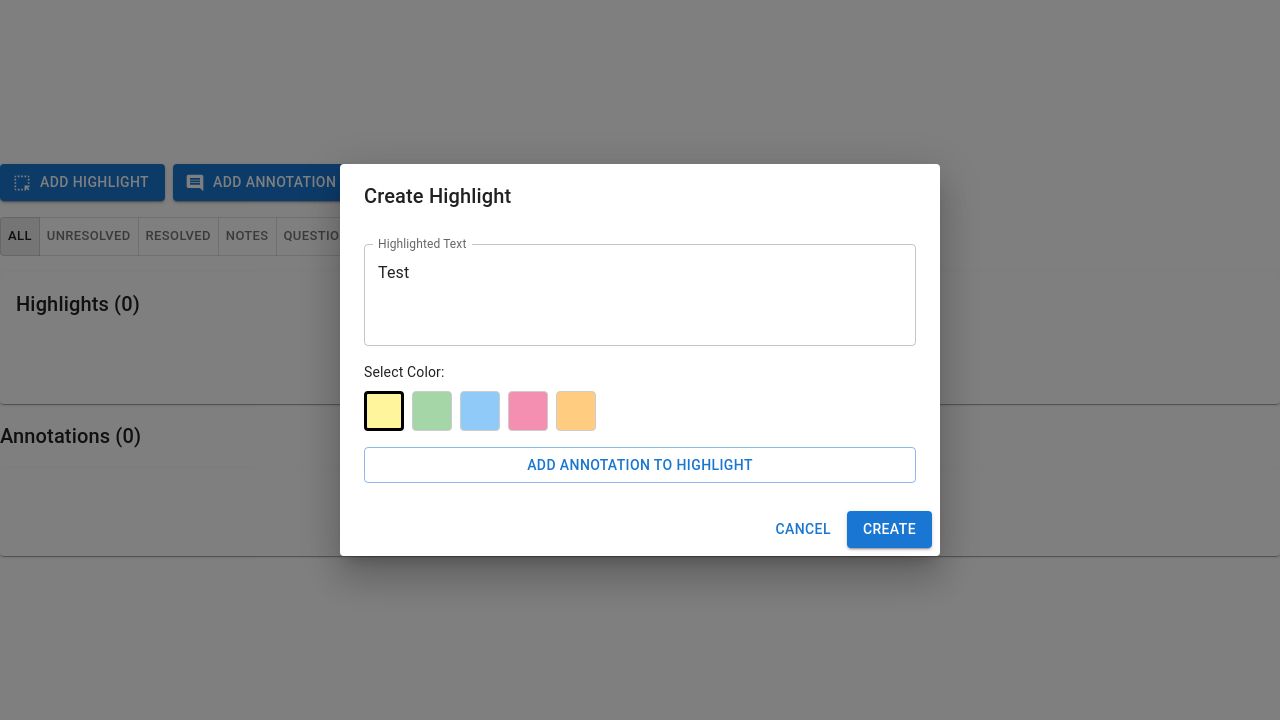
Test case: AnnotationPanel Component › Error Handling › should handle create highlight error
Expected: the heading "Create Highlight" is shown, top-left (364, 184), bottom-right (511, 208)
What coordinates should you click on to do the following:
click the button "Create"
I would click on:
 (889, 529)
Its box is top-left (847, 511), bottom-right (932, 548).
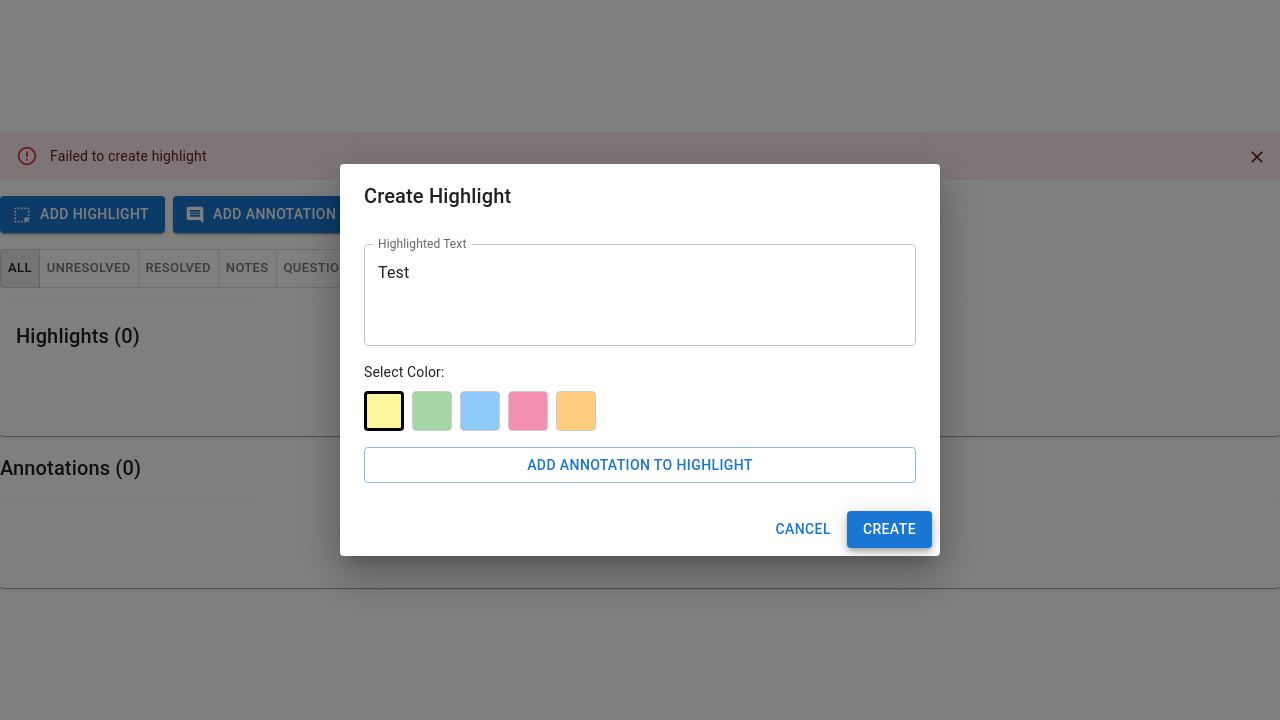
Expected: the text "Failed to create highlight" is shown, top-left (50, 148), bottom-right (207, 164)
